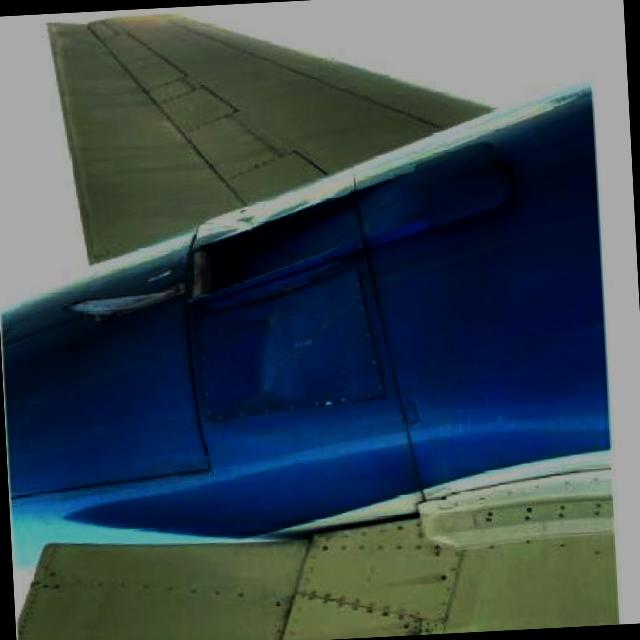dent: (210, 266, 330, 414)
